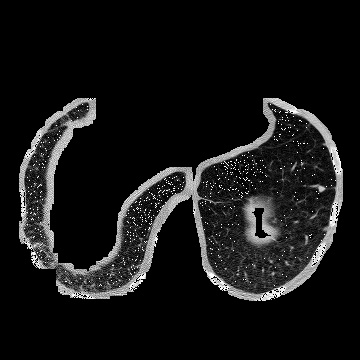PN: (318, 185, 324, 191)
